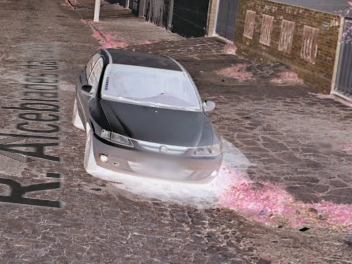car: (71, 45, 228, 192)
